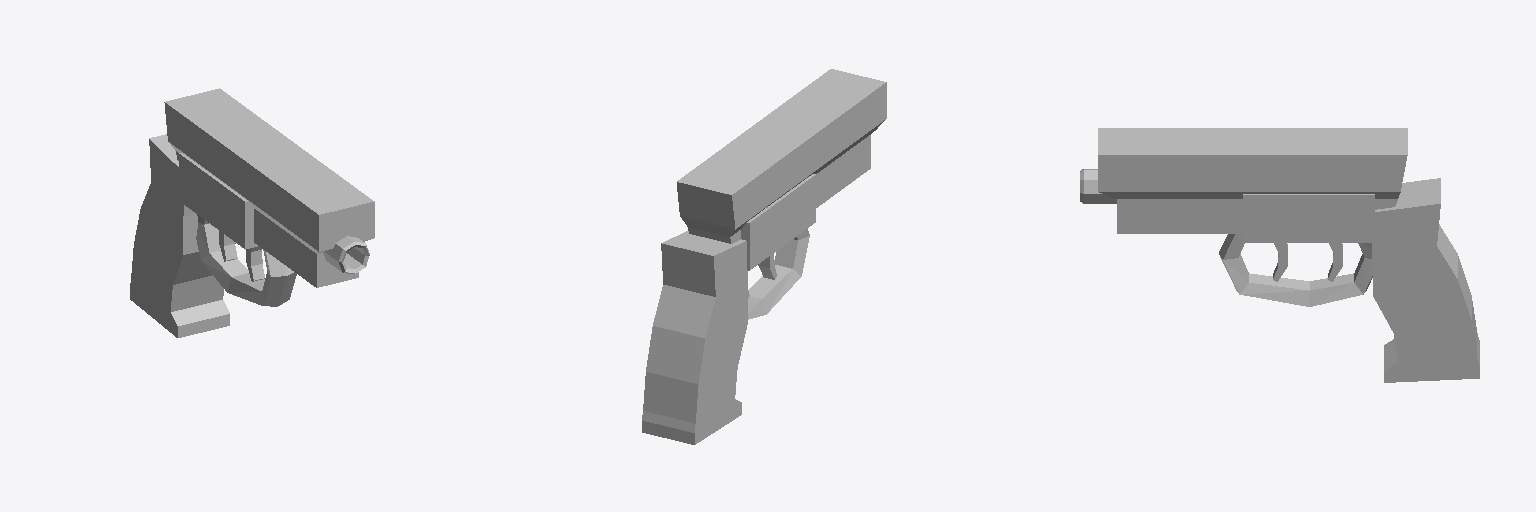
File: BladeRunnerGun.obj
The picture shows the model from 3 angles: view 1: azimuth 30°, elevation 25°; view 2: azimuth 150°, elevation 25°; view 3: azimuth 270°, elevation 25°; orthographic projection.
Visible parts, largest first — view 1: pCube1, pCube4, pCube2, pCube3, pCube7; view 2: pCube1, pCube4, pCube2, pCube3; view 3: pCube1, pCube4, pCube2, pCube3, pCube7.
Part boxes in pixels (x1,y1,x2,y2): pCube1: (164,88,374,287); pCube4: (130,134,235,337); pCube2: (179,153,257,249); pCube3: (196,215,296,306); pCube7: (323,236,369,273); pCube1: (677,69,886,243); pCube4: (642,231,747,444); pCube2: (741,174,815,270); pCube3: (748,228,809,319); pCube1: (1098,128,1407,233); pCube4: (1372,178,1479,382); pCube2: (1243,194,1374,242); pCube3: (1219,234,1372,306); pCube7: (1080,169,1116,203).
Bounding box in the file's own units: 3.66 × 13.66 × 21.64.